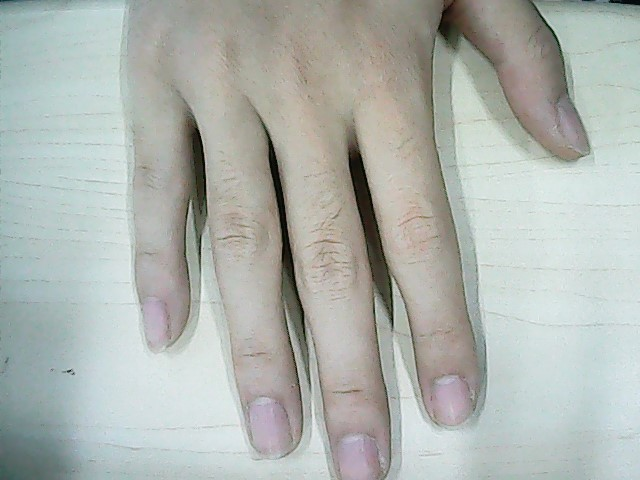nail: (245, 396, 295, 458), (427, 369, 474, 430), (553, 92, 593, 157), (334, 432, 385, 480), (138, 297, 175, 352)
